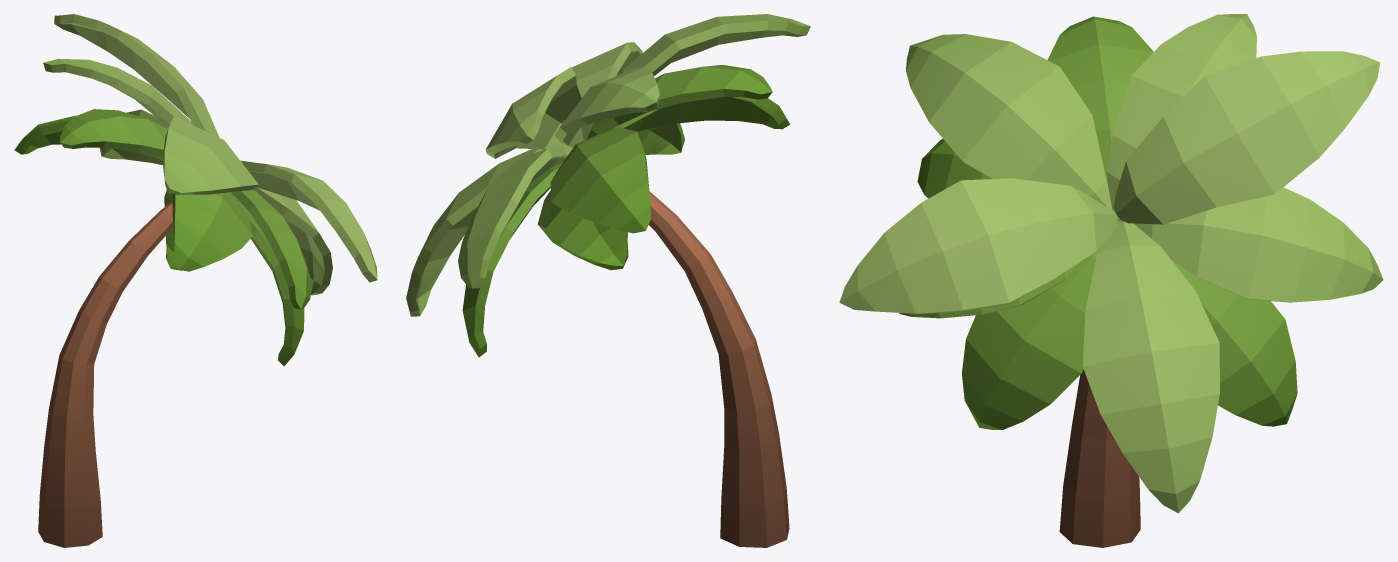
The model's file is palm-tree-tilted.glb.
The picture shows the model from 3 angles, left to right: view 1: azimuth 30°, elevation 25°; view 2: azimuth 150°, elevation 25°; view 3: azimuth 270°, elevation 25°; orthographic projection. The views are drawn at different scales.
Visible parts, largest first — view 1: palm tree tilted; view 2: palm tree tilted; view 3: palm tree tilted.
Boxes of the visible parts, x1,y1,x2,y2 form: palm tree tilted: (14,14,377,547); palm tree tilted: (406,14,810,547); palm tree tilted: (839,14,1383,547).
Bounding box in the file's own units: 5.04 × 6.73 × 6.08.
1 material, 1 textured.
